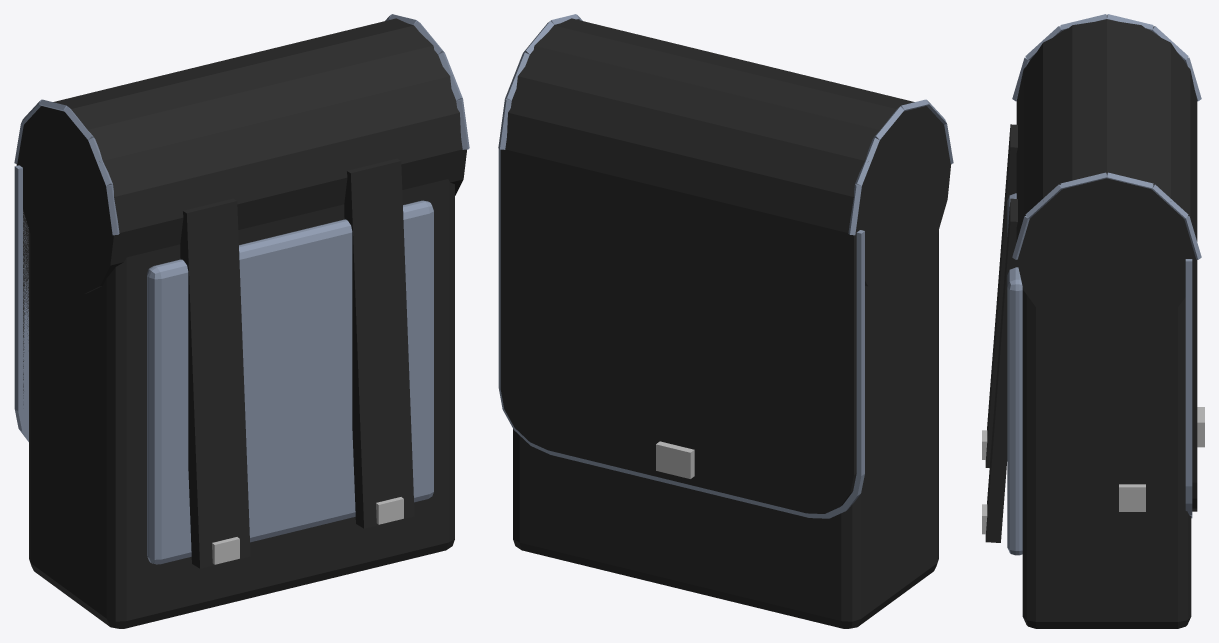
File: randoseru_black.glb
The picture shows the model from 3 angles, left to right: view 1: azimuth 30°, elevation 25°; view 2: azimuth 150°, elevation 25°; view 3: azimuth 270°, elevation 25°; orthographic projection. The views are drawn at different scales.
Visible parts, largest first — view 1: Cylinder, Cube, Cube.002, Cube.005, Cube.003, prism.001, prism, Cube.004, Cube.006; view 2: prism, Cylinder, Cube, prism.001, Cube.001; view 3: Cylinder, Cube, Cube.002, Cube.005, Cube.003, prism.001, prism, Cube.007, Cube.001.
Part boxes in pixels (x1,y1,x2,y2): Cylinder: (16,18,466,293); Cube: (29,179,454,628); Cube.002: (147,200,433,564); Cube.005: (344,158,414,528); Cube.003: (180,198,250,568); prism.001: (14,165,28,441); prism: (16,165,28,404); Cube.004: (212,537,239,564); Cube.006: (376,497,403,524); prism: (500,149,856,513); Cylinder: (505,18,951,293); Cube: (513,230,938,628); prism.001: (498,149,864,518); Cube.001: (656,441,694,478); Cylinder: (1016,19,1197,340); Cube: (1022,287,1191,628); Cube.002: (1007,193,1022,555); Cube.005: (985,198,1018,542); Cube.003: (985,124,1017,467); prism.001: (1185,259,1192,518); prism: (1192,259,1197,511); Cube.007: (1119,484,1145,511); Cube.001: (1197,407,1204,447).
Size of the model in its own units: 23 by 30.21 by 13.2.
